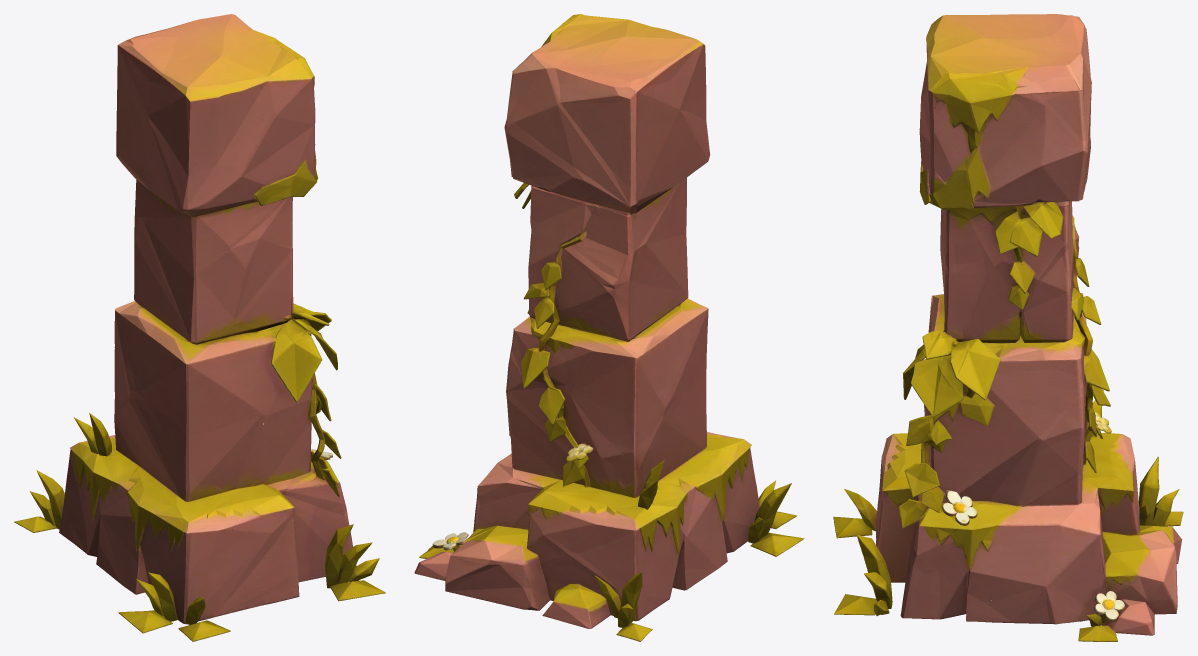
The model's file is KeepSakeRockPiller.glb.
The picture shows the model from 3 angles, left to right: view 1: azimuth 30°, elevation 25°; view 2: azimuth 150°, elevation 25°; view 3: azimuth 270°, elevation 25°; orthographic projection. The views are drawn at different scales.
Visible parts, largest first — view 1: tripo_node_b101f3f5-cdb1-4da6-ad62-0bc61be1a2a1; view 2: tripo_node_b101f3f5-cdb1-4da6-ad62-0bc61be1a2a1; view 3: tripo_node_b101f3f5-cdb1-4da6-ad62-0bc61be1a2a1.
Part boxes in pixels (x1,y1,x2,y2): tripo_node_b101f3f5-cdb1-4da6-ad62-0bc61be1a2a1: (14, 14, 385, 641); tripo_node_b101f3f5-cdb1-4da6-ad62-0bc61be1a2a1: (414, 14, 804, 641); tripo_node_b101f3f5-cdb1-4da6-ad62-0bc61be1a2a1: (833, 14, 1183, 641).
Bounding box in the file's own units: 0.546 × 0.9819 × 0.5829.
1 material, 1 textured.
